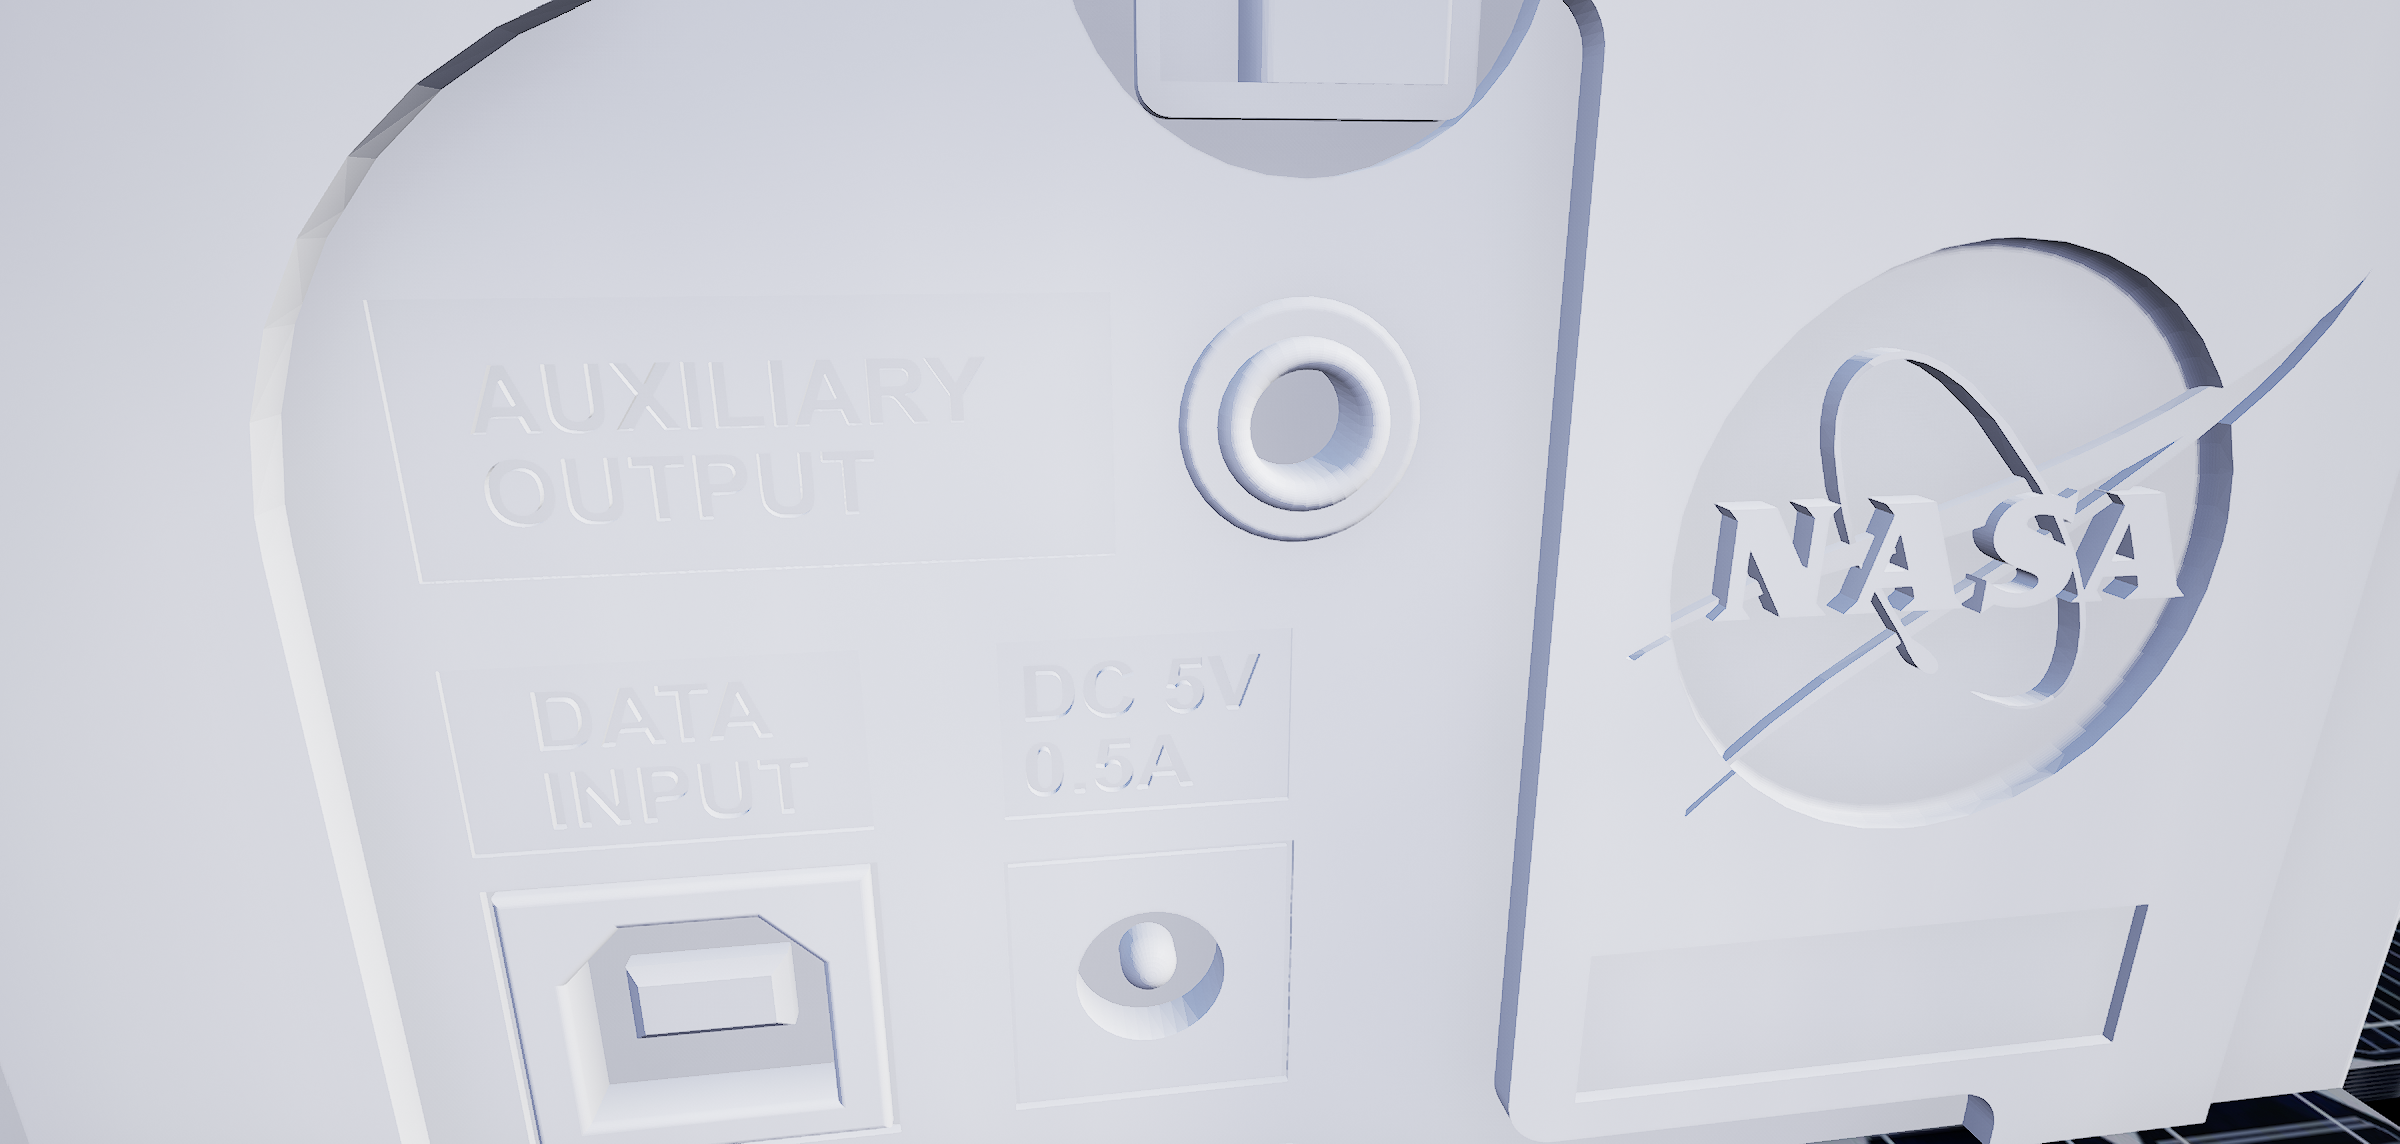aux: (1159, 270, 1449, 554)
dc: (1050, 904, 1241, 1034)
usb: (548, 917, 854, 1139)
